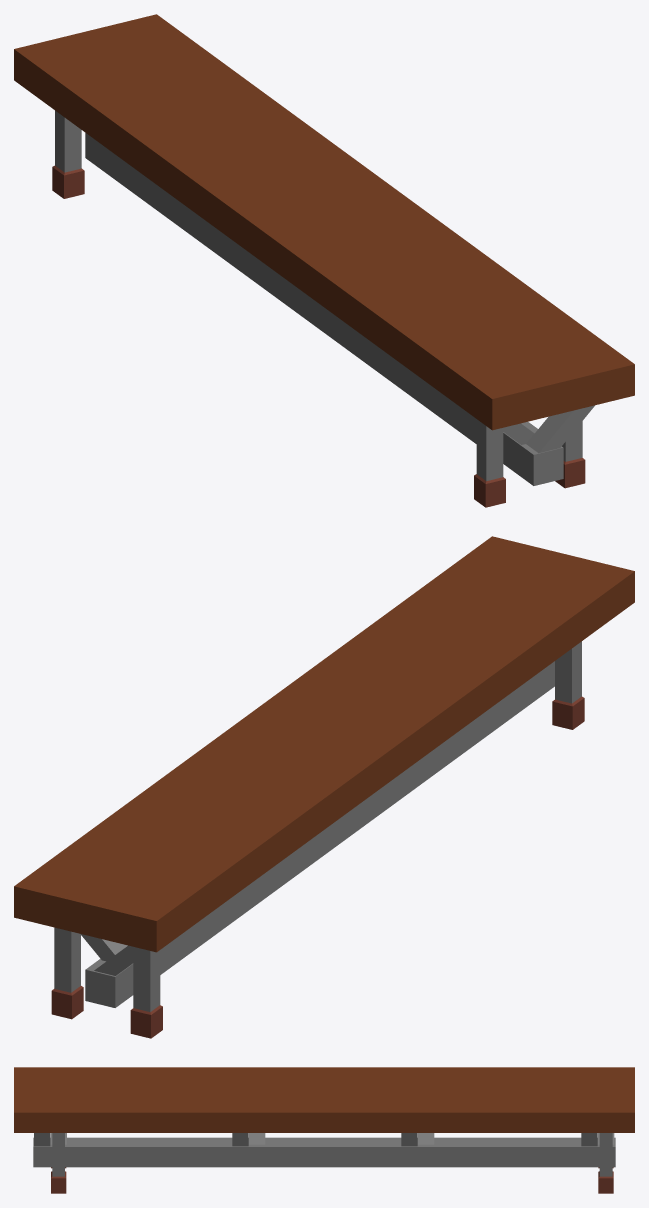
Rendered from VisioBench.fbx.
The picture shows the model from 3 angles, top to bottom: view 1: azimuth 30°, elevation 25°; view 2: azimuth 150°, elevation 25°; view 3: azimuth 270°, elevation 25°; orthographic projection. The views are drawn at different scales.
Visible parts, largest first — view 1: Cube; view 2: Cube; view 3: Cube.
Boxes of the visible parts, x1,y1,x2,y2 form: Cube: [14, 14, 634, 507]; Cube: [14, 536, 634, 1038]; Cube: [14, 1067, 634, 1193].
Size of the model in its own units: 241 by 41.61 by 37.56.
